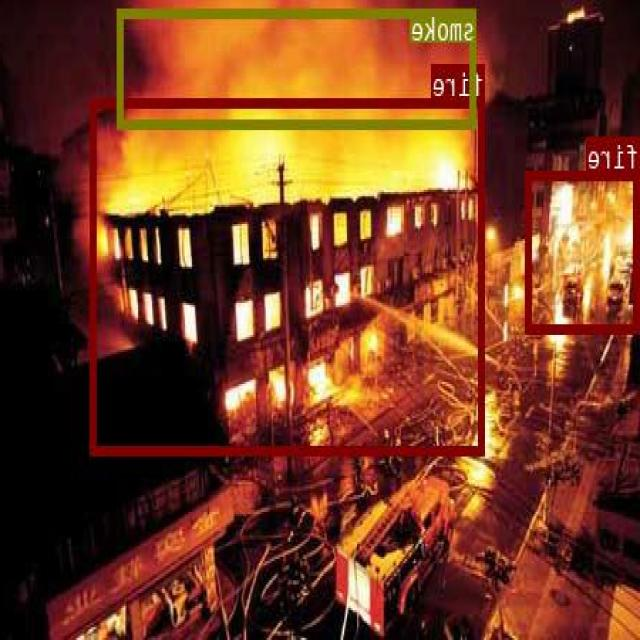fire: (91, 98, 486, 452), (526, 170, 640, 330)
smoke: (118, 7, 477, 127)
